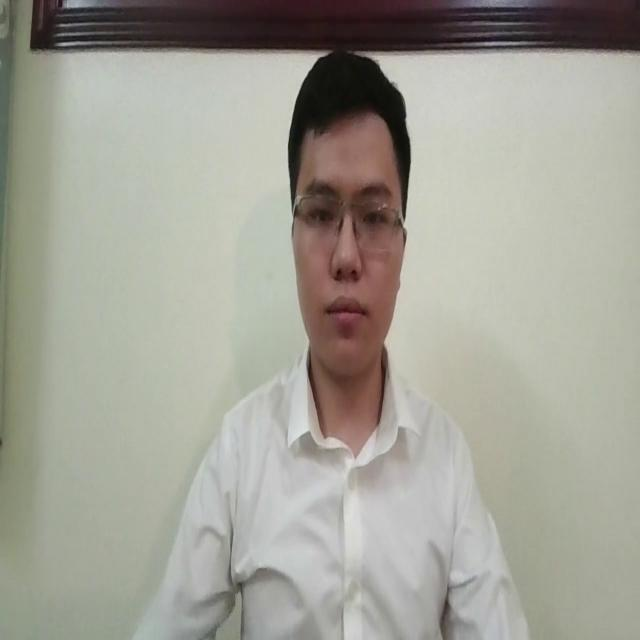student: (128, 43, 533, 640)
